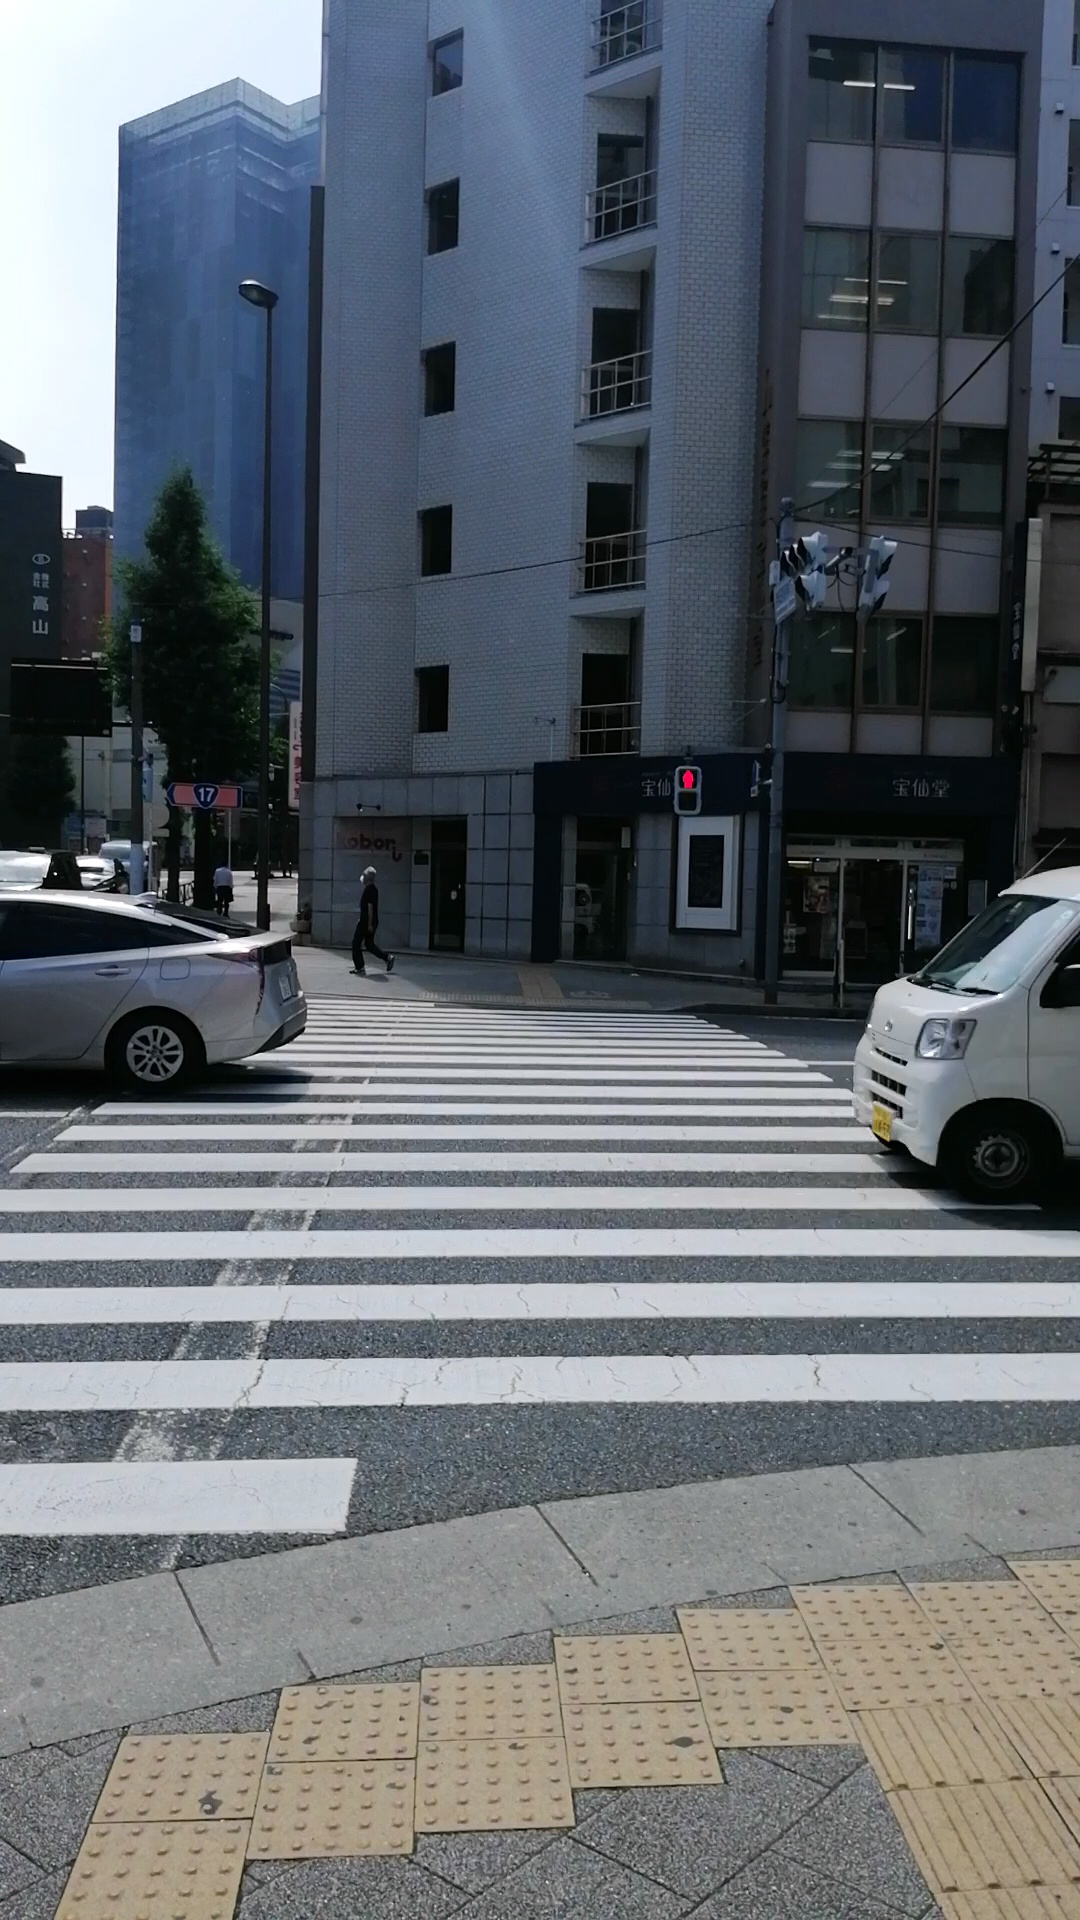red: (675, 764, 700, 814)
